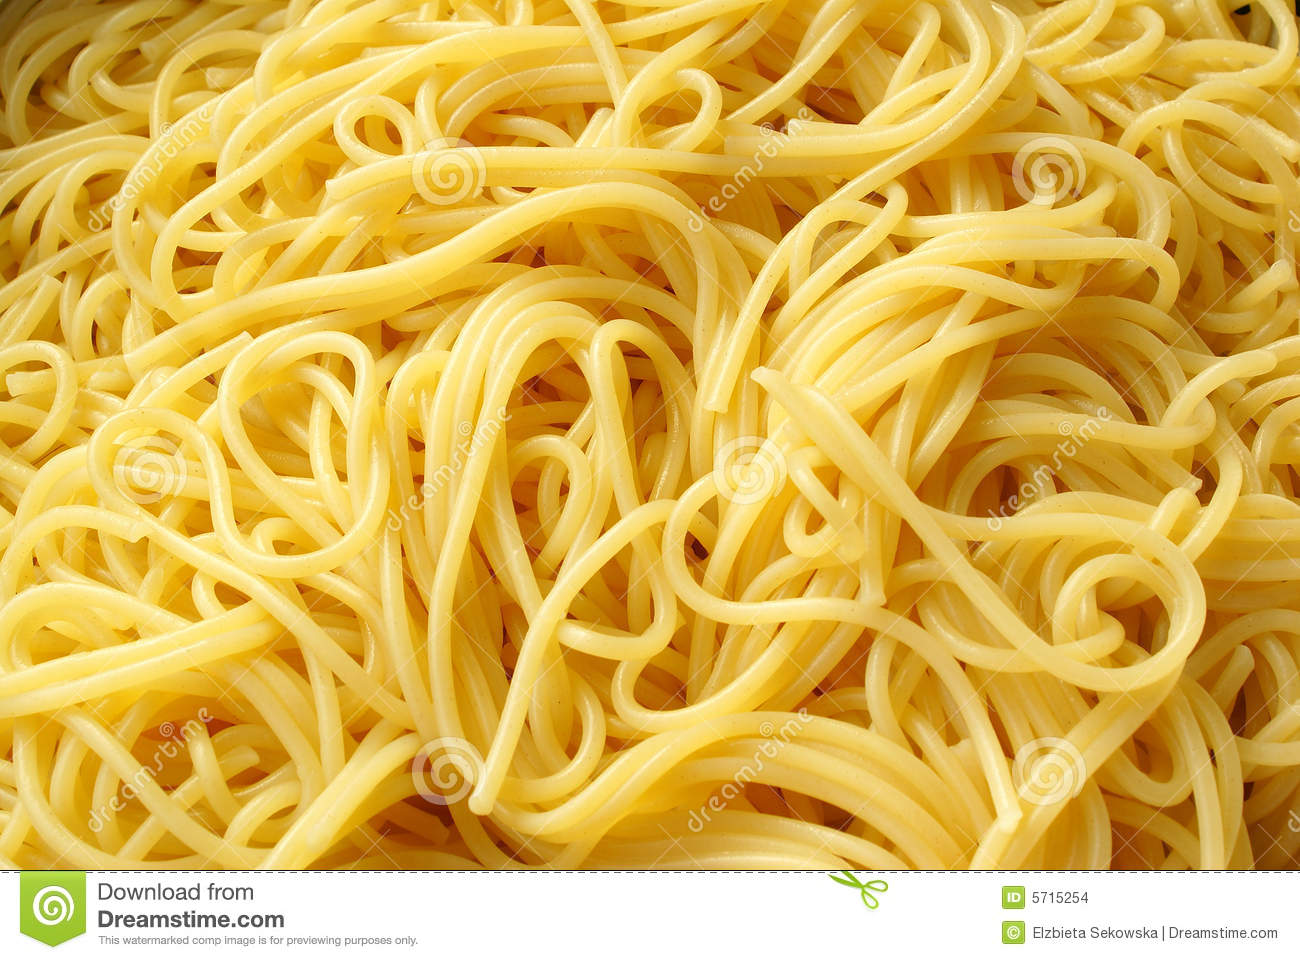plain spaghetti: (2, 6, 1300, 859)
